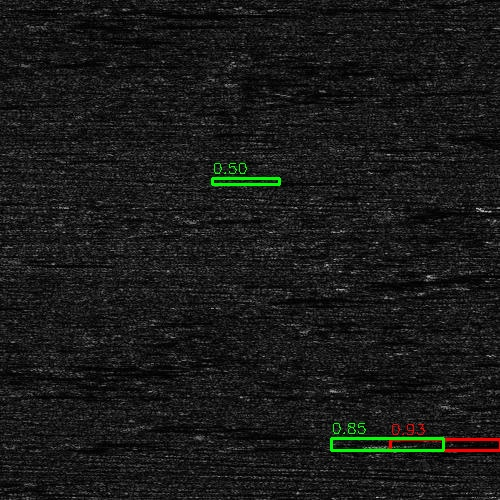rock: (81, 9, 154, 20), (351, 441, 404, 448), (324, 386, 365, 391)
shadow: (118, 9, 254, 20), (378, 441, 500, 448), (345, 386, 421, 391), (0, 303, 73, 308)
